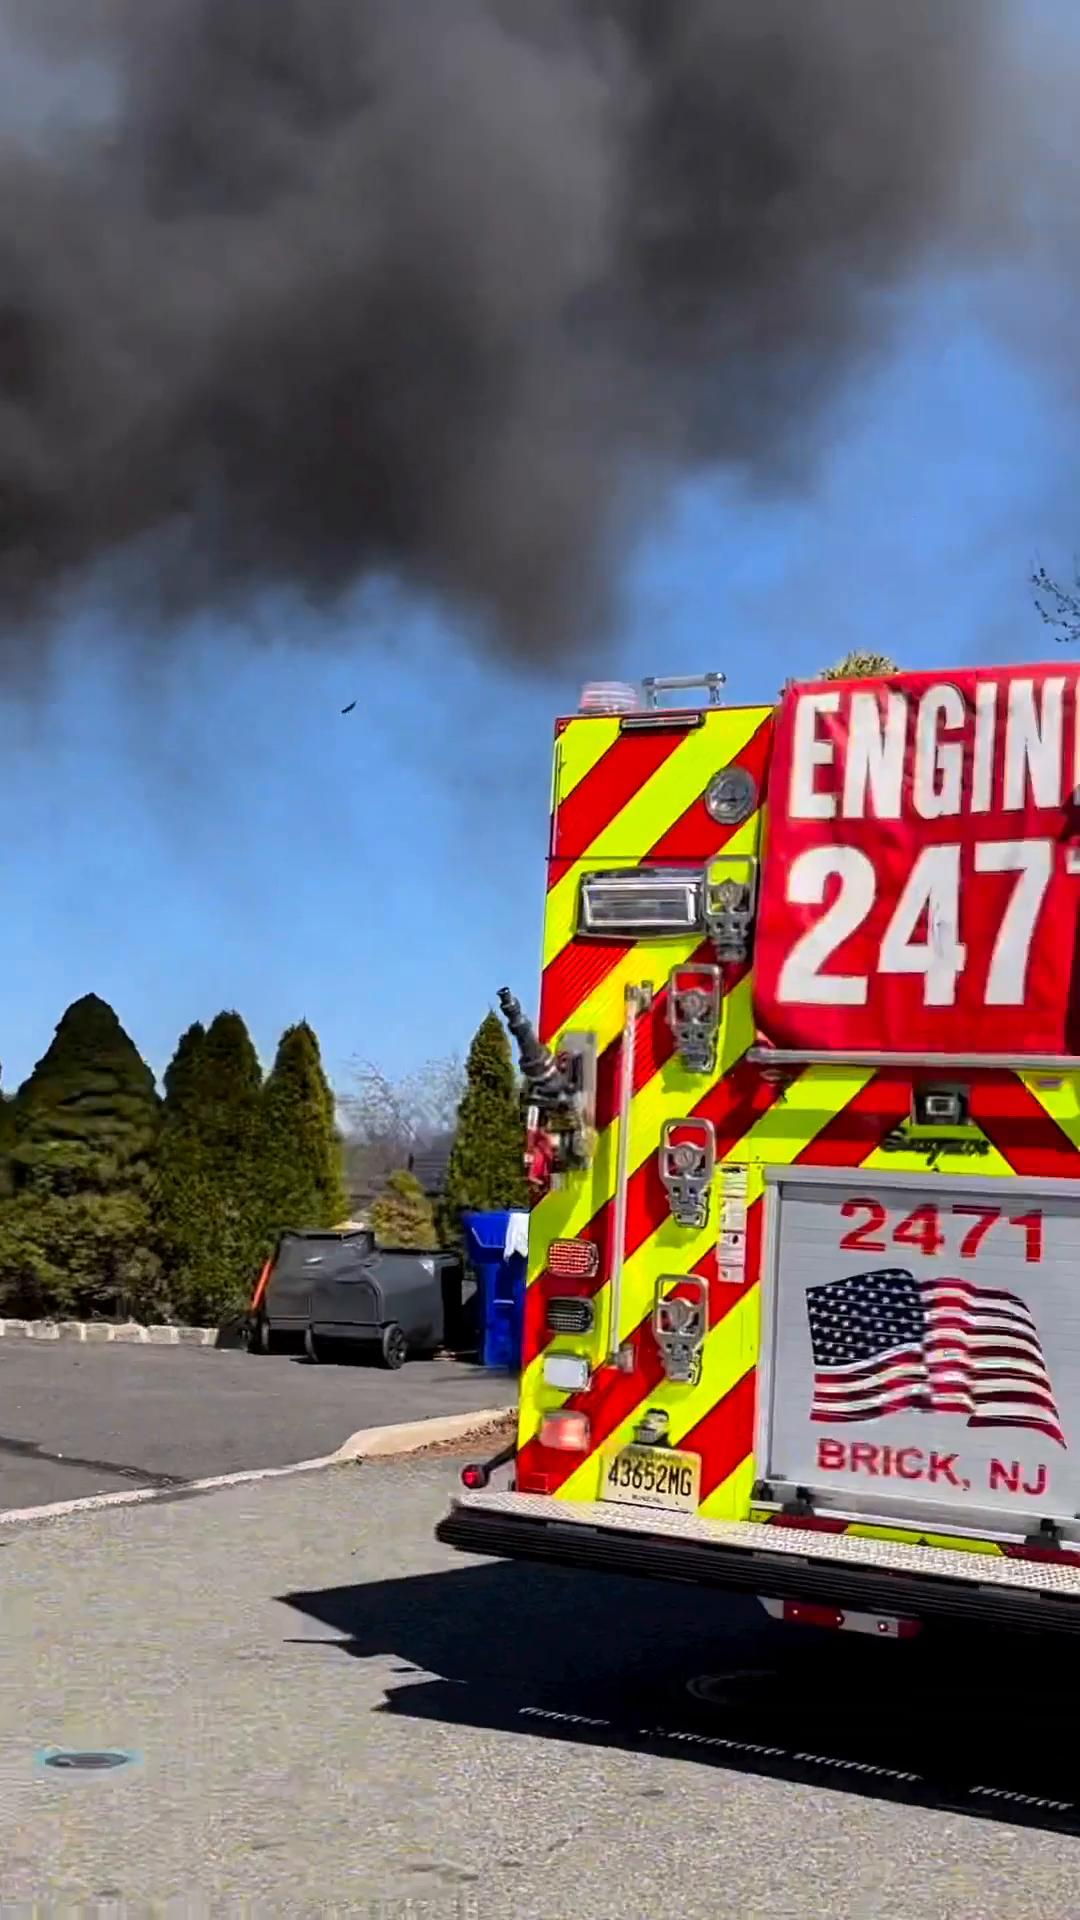fire: (42, 3, 812, 402)
